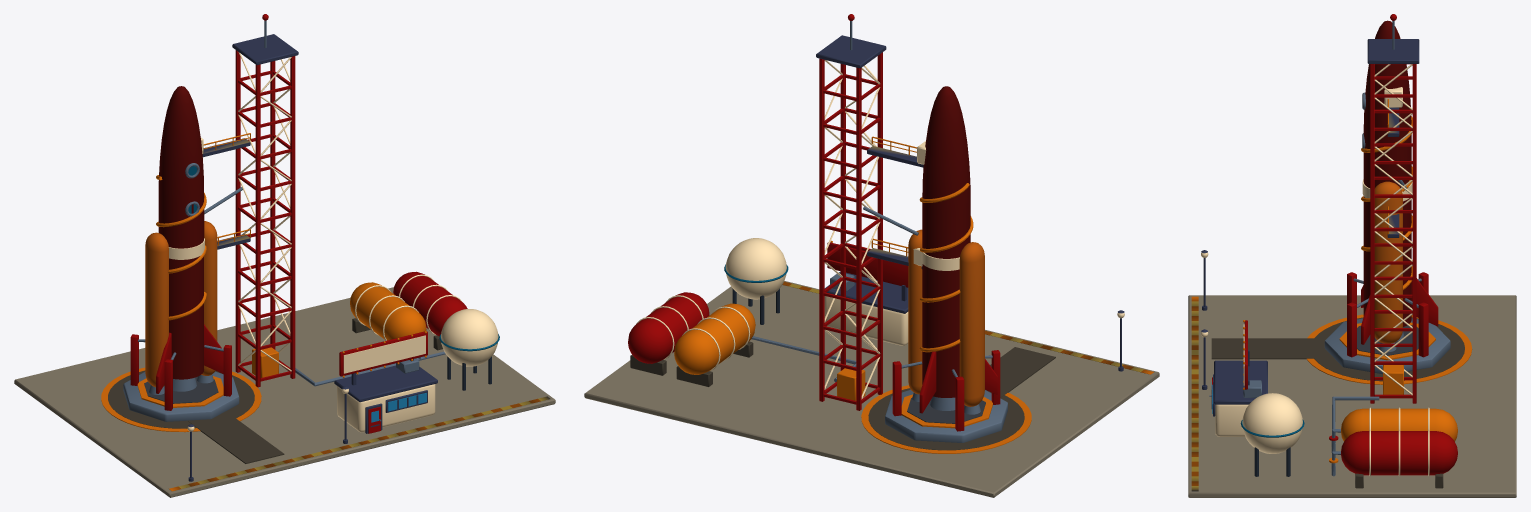
The model's file is LaunchSite.obj.
3 views of the same model, side by side, from view 1: azimuth 30°, elevation 25°; view 2: azimuth 150°, elevation 25°; view 3: azimuth 270°, elevation 25° (orthographic). The views are drawn at different scales.
Visible parts, largest first — view 1: LaunchSite; view 2: LaunchSite; view 3: LaunchSite.
Part boxes in pixels (<box>): LaunchSite: <box>14,14,555,497</box>; LaunchSite: <box>584,14,1159,497</box>; LaunchSite: <box>1188,14,1516,497</box>.
Bounding box in the file's own units: 40 × 36.2 × 28.
